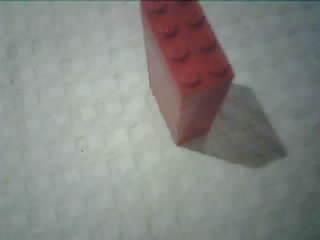lego: (139, 1, 235, 145)
